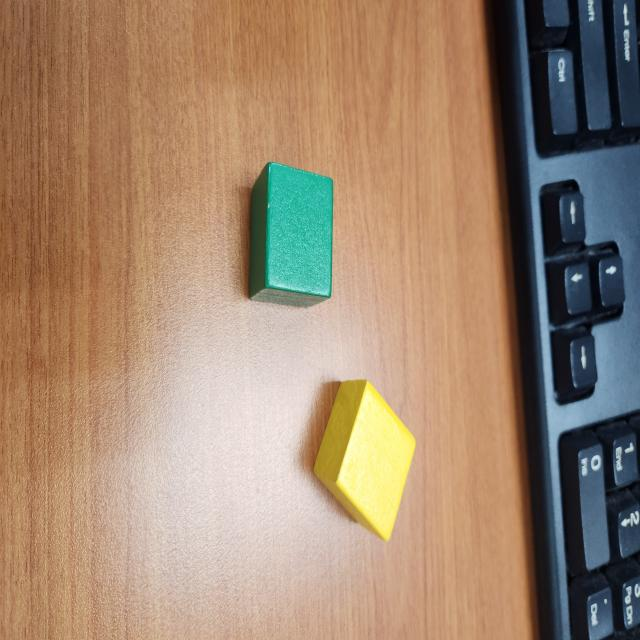green: (250, 161, 334, 307)
yellow: (312, 380, 417, 546)
